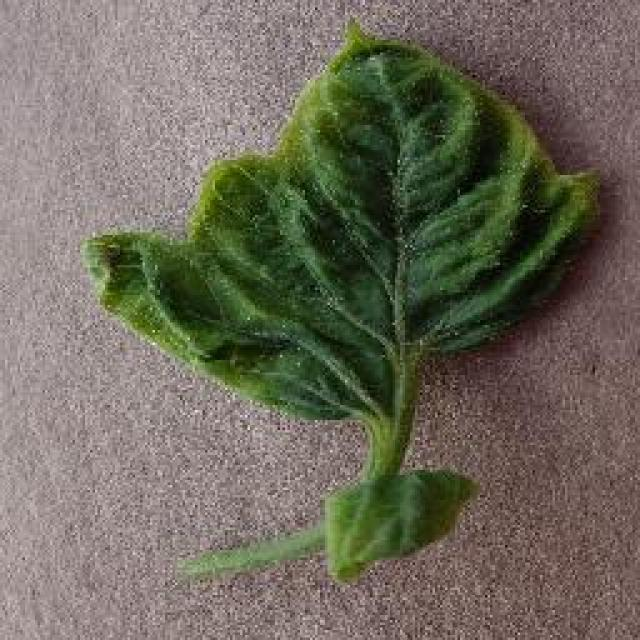Tomato yellow virus leaf: (80, 19, 612, 423), (323, 468, 484, 578)
